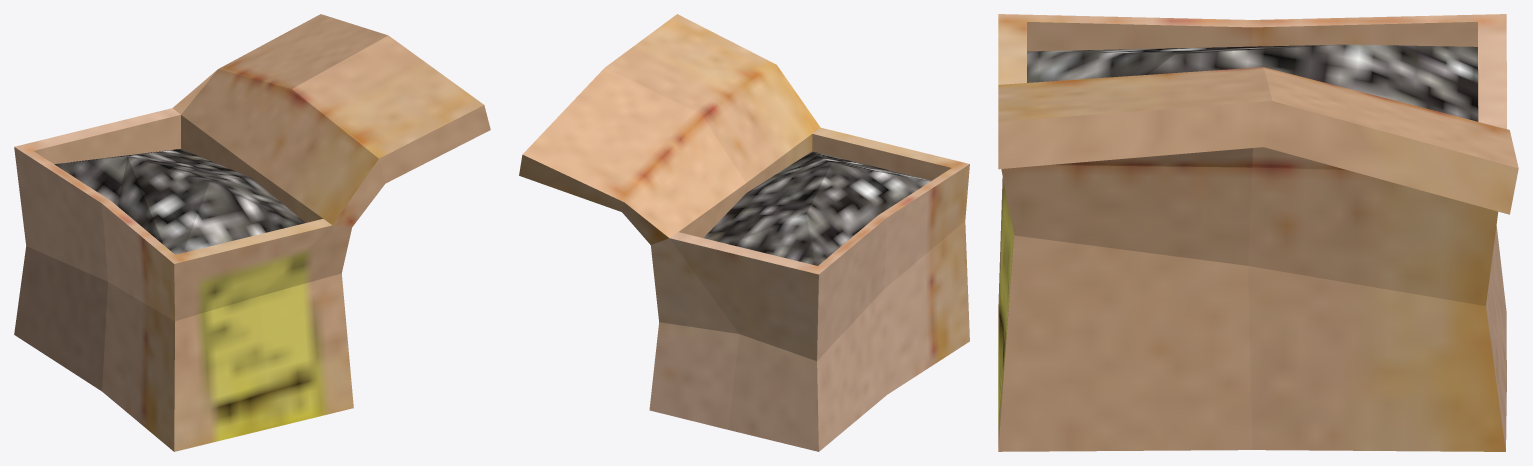
File: soup-nails.glb
3 views of the same model, side by side, from view 1: azimuth 30°, elevation 25°; view 2: azimuth 150°, elevation 25°; view 3: azimuth 270°, elevation 25° (orthographic). The views are drawn at different scales.
Visible parts, largest first — view 1: soup-nails; view 2: soup-nails; view 3: soup-nails.
Boxes of the visible parts, x1,y1,x2,y2 form: soup-nails: (14,14,490,451); soup-nails: (519,14,969,451); soup-nails: (998,14,1518,451).
Bounding box in the file's own units: 0.2479 × 0.2093 × 0.222.
1 material, 1 textured.
